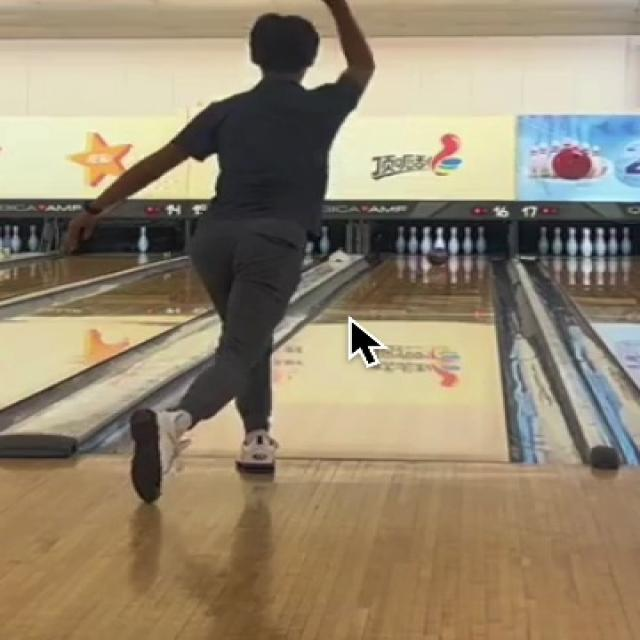alley: (272, 257, 507, 458)
balls: (428, 247, 448, 263)
bottle: (395, 224, 484, 255)
